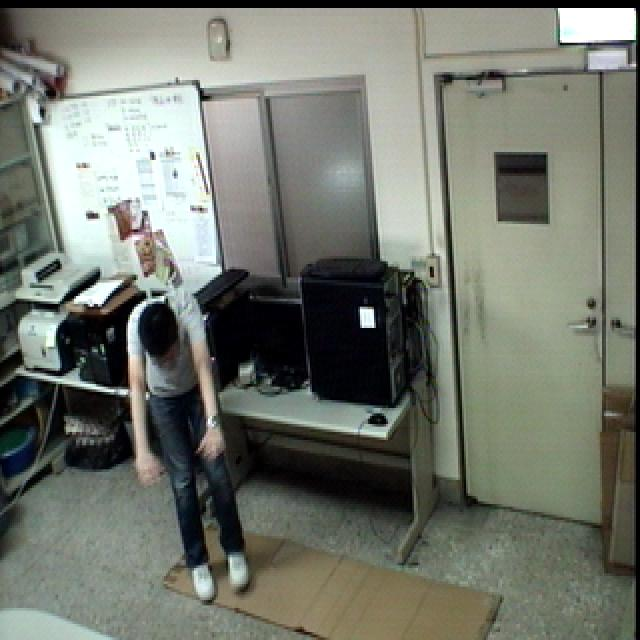bend: (115, 274, 258, 615)
